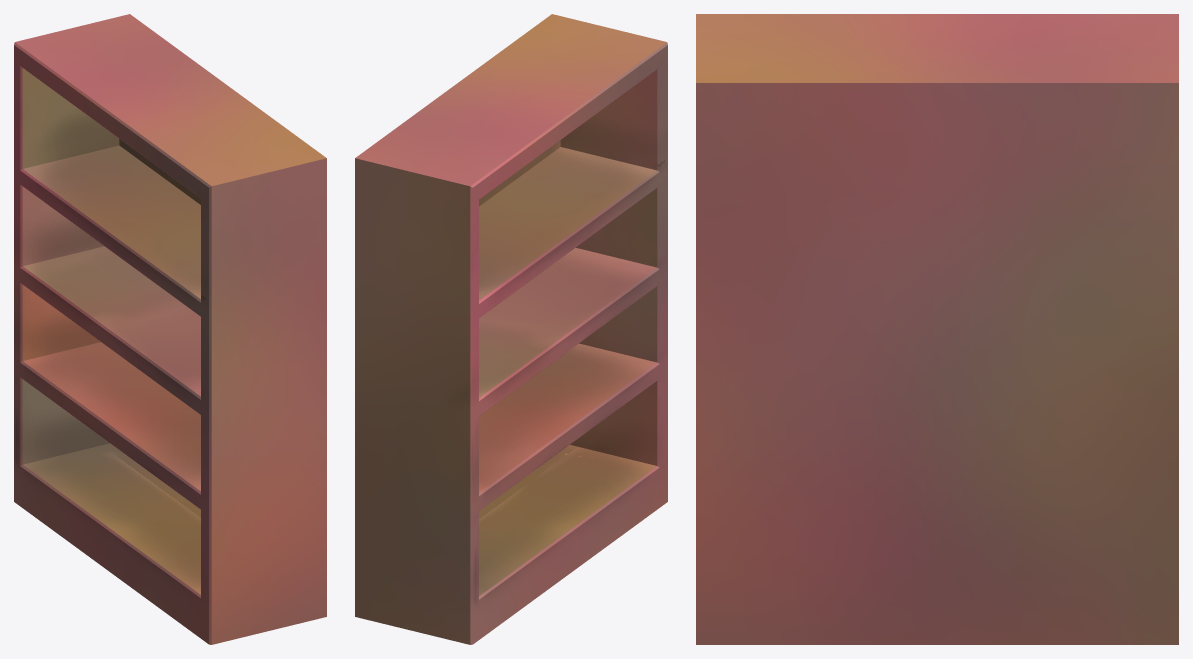
The model's file is Bookshelf.glb.
3 renders of one model, left to right at view 1: azimuth 30°, elevation 25°; view 2: azimuth 150°, elevation 25°; view 3: azimuth 270°, elevation 25°, orthographic. The views are drawn at different scales.
Visible parts, largest first — view 1: bookshelf; view 2: bookshelf; view 3: bookshelf.
Part boxes in pixels (bbox=[...]): bookshelf: bbox=[14, 14, 326, 644]; bookshelf: bbox=[355, 14, 667, 644]; bookshelf: bbox=[696, 14, 1178, 644].
Size of the model in its own units: 1 by 3.75 by 2.92.
1 material, 1 textured.
